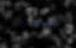eight: (47, 20, 52, 28)
four: (35, 19, 40, 28), (23, 19, 28, 27)
nine: (53, 20, 58, 29)
seven: (29, 19, 34, 27)
six: (41, 20, 46, 28)
two: (17, 18, 22, 27)
